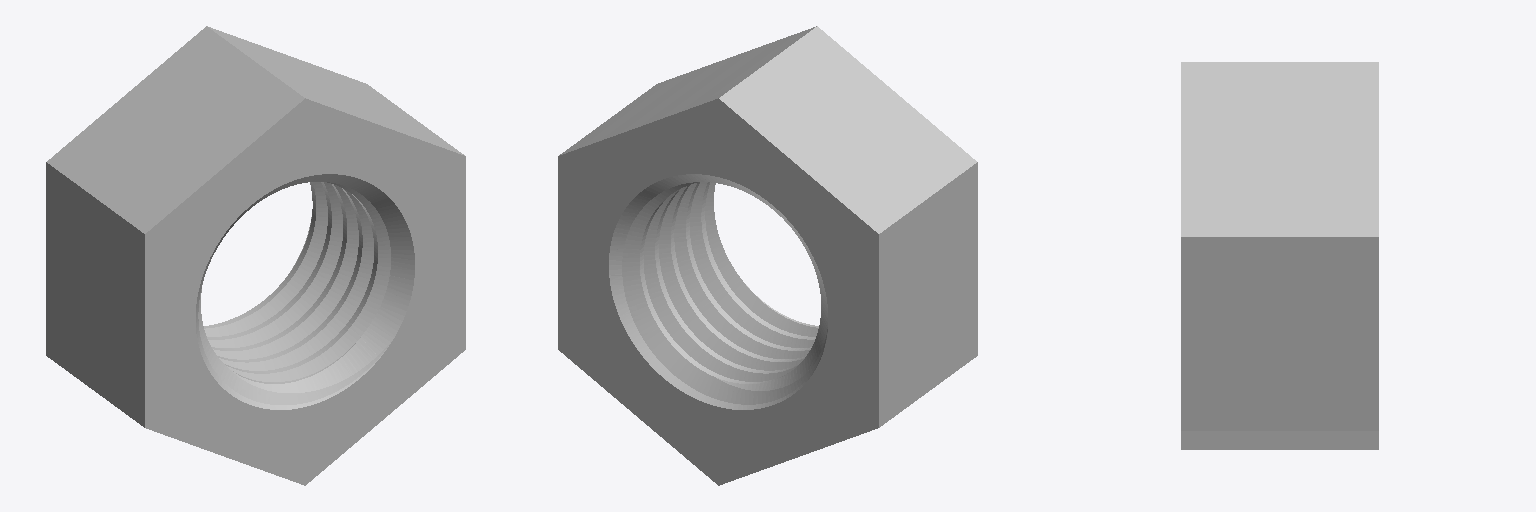
The model's file is factory_nut_m20_tight_subdiv_3x.obj.
3 views of the same model, side by side, from view 1: azimuth 30°, elevation 25°; view 2: azimuth 150°, elevation 25°; view 3: azimuth 270°, elevation 25° (orthographic).
Parts seen in each view (by area): view 1: mesh5, mesh9, mesh10, mesh1, mesh3, mesh8, mesh2; view 2: mesh6, mesh9, mesh0, mesh10, mesh4, mesh8, mesh2; view 3: mesh7, mesh8, mesh12.
Boxes of the visible parts, x1=… form: mesh5: x1=145, y1=98, x2=465, y2=485; mesh9: x1=47, y1=26, x2=304, y2=233; mesh10: x1=46, y1=162, x2=144, y2=427; mesh1: x1=198, y1=182, x2=392, y2=404; mesh3: x1=196, y1=174, x2=414, y2=409; mesh8: x1=207, y1=26, x2=464, y2=155; mesh2: x1=204, y1=182, x2=377, y2=383; mesh6: x1=558, y1=98, x2=878, y2=485; mesh9: x1=719, y1=26, x2=976, y2=233; mesh0: x1=622, y1=182, x2=827, y2=404; mesh10: x1=879, y1=162, x2=977, y2=427; mesh4: x1=609, y1=174, x2=827, y2=409; mesh8: x1=559, y1=26, x2=816, y2=155; mesh2: x1=640, y1=182, x2=818, y2=383; mesh7: x1=1181, y1=237, x2=1378, y2=430; mesh8: x1=1181, y1=62, x2=1378, y2=236; mesh12: x1=1181, y1=431, x2=1378, y2=449.
Bounding box in the file's own units: 0.03 × 0.0346 × 0.016.